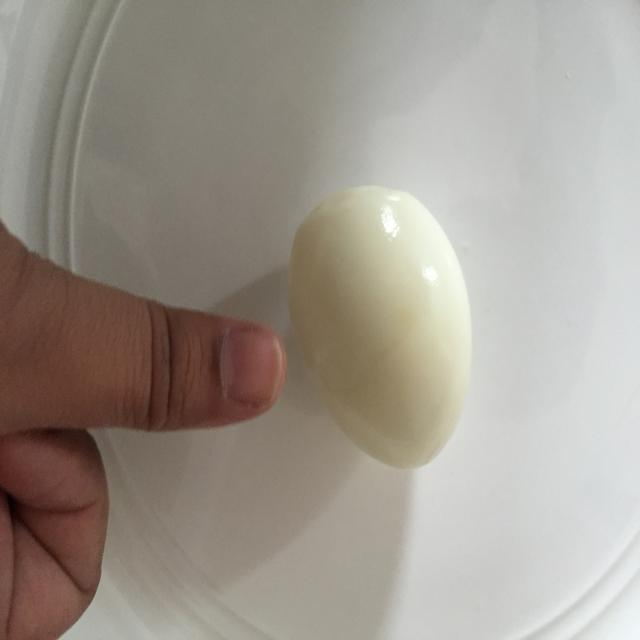Egg: (286, 176, 482, 476)
Finger: (120, 296, 292, 442)
